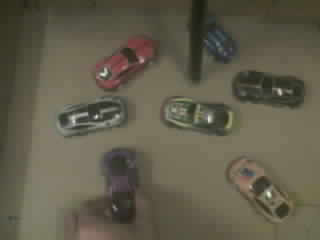Car: (229, 157, 292, 222), (95, 36, 154, 88), (161, 96, 233, 135), (57, 96, 127, 135), (233, 70, 303, 107), (103, 148, 137, 220), (205, 20, 233, 60)
